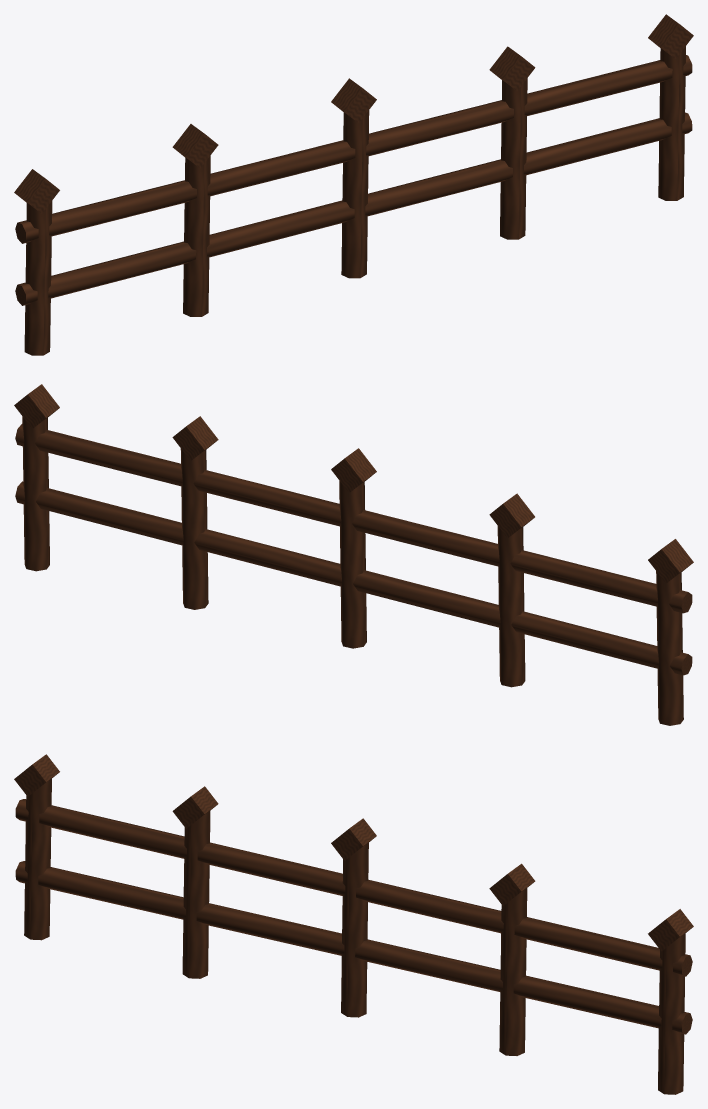
The model's file is fence_v3.obj.
3 views of the same model, one above another, from view 1: azimuth 30°, elevation 25°; view 2: azimuth 150°, elevation 25°; view 3: azimuth 330°, elevation 25° (orthographic).
Visible parts, largest first — view 1: StoryWorld_Fence_v3; view 2: StoryWorld_Fence_v3; view 3: StoryWorld_Fence_v3.
Boxes of the visible parts, bbox=[...] form: StoryWorld_Fence_v3: bbox=[14, 14, 693, 355]; StoryWorld_Fence_v3: bbox=[14, 384, 693, 725]; StoryWorld_Fence_v3: bbox=[14, 754, 693, 1094].
Size of the model in its own units: 8.2 by 2.23 by 0.3.
Materials: 2 (2 with a texture image).
